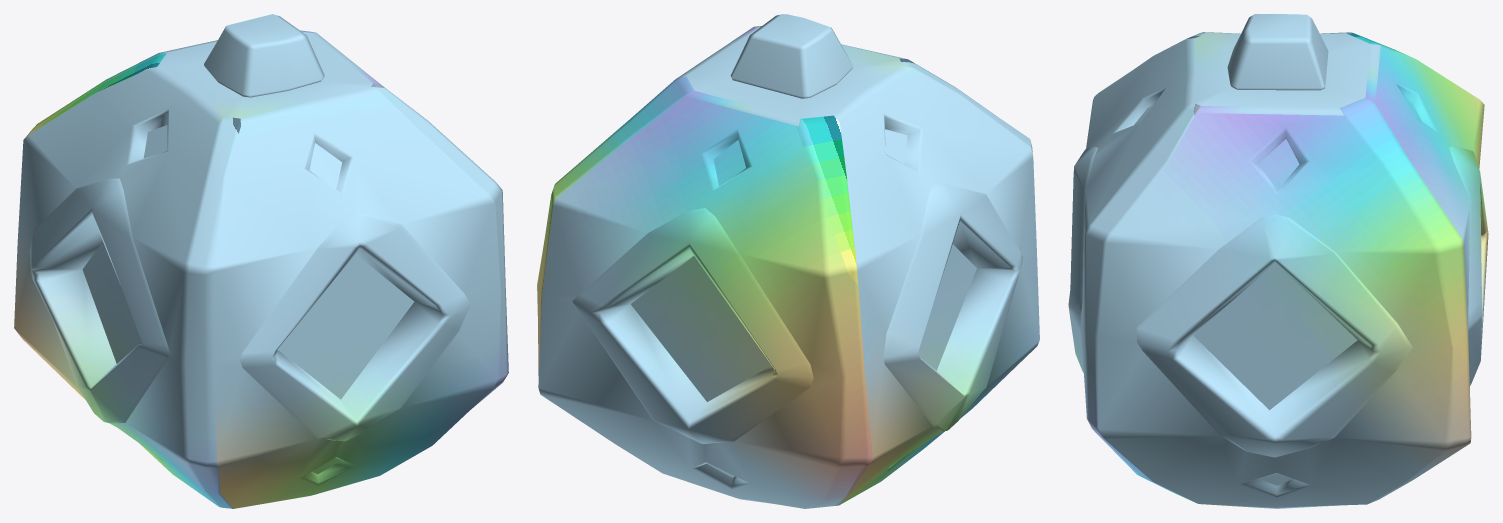
File: Prop_DiscoLight.glb
The picture shows the model from 3 angles, left to right: view 1: azimuth 30°, elevation 25°; view 2: azimuth 150°, elevation 25°; view 3: azimuth 270°, elevation 25°; orthographic projection. The views are drawn at different scales.
Visible parts, largest first — view 1: Prop_DiscoLight; view 2: Prop_DiscoLight; view 3: Prop_DiscoLight.
Part boxes in pixels (x1=…): Prop_DiscoLight: x1=14, y1=14, x2=508, y2=508; Prop_DiscoLight: x1=537, y1=14, x2=1039, y2=508; Prop_DiscoLight: x1=1068, y1=14, x2=1488, y2=508.
Bounding box in the file's own units: 2.53 × 3.19 × 2.53.
1 material, 1 textured.
